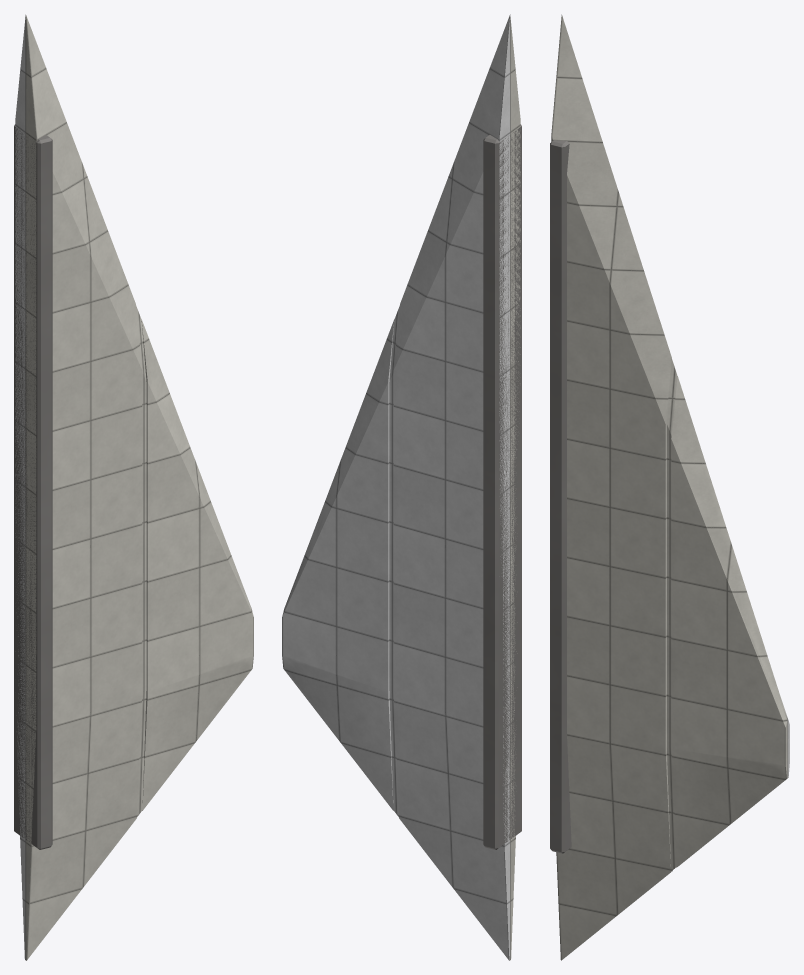
The model's file is ax_aero_19_wgk_strake_s.glb.
The picture shows the model from 3 angles, left to right: view 1: azimuth 30°, elevation 25°; view 2: azimuth 150°, elevation 25°; view 3: azimuth 330°, elevation 25°; orthographic projection.
Visible parts, largest first — view 1: wing_top, root_flange, wing_underside; view 2: wing_underside, root_flange, wing_top; view 3: wing_top, root_flange.
Boxes of the visible parts, x1,y1,x2,y2 form: wing_top: (25,14,253,960); root_flange: (14,124,52,849); wing_underside: (15,17,25,959); wing_underside: (282,14,510,960); root_flange: (483,124,521,849); wing_top: (510,17,520,959); wing_top: (551,14,787,960); root_flange: (550,140,571,853).
Bounding box in the file's own units: 0.6 × 2.4 × 0.12.
Materials: 3 (3 with a texture image).
